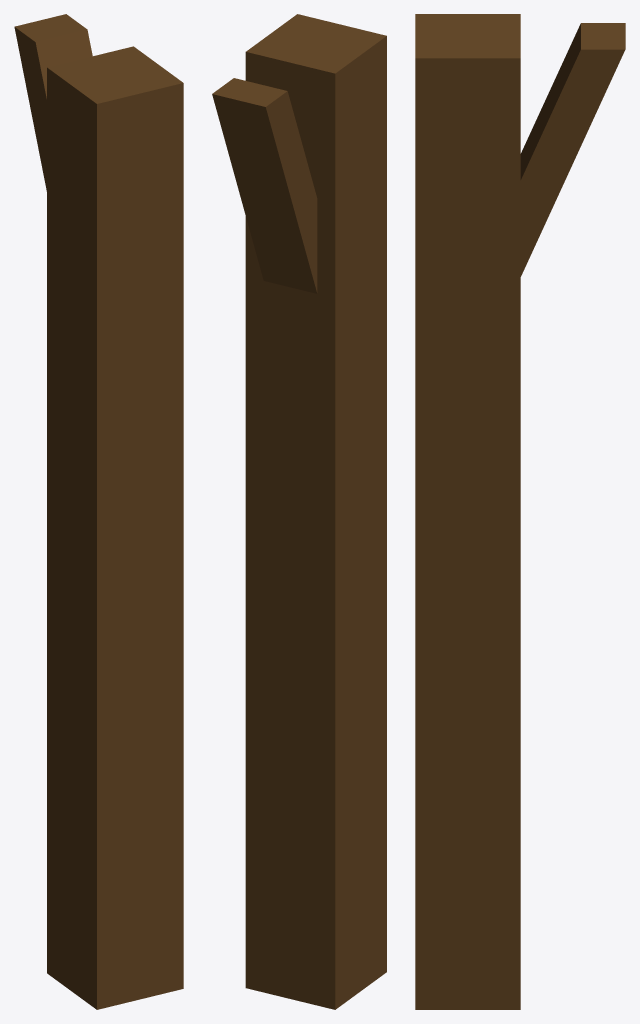
Rendered from Pillar3.obj.
The picture shows the model from 3 angles, left to right: view 1: azimuth 30°, elevation 25°; view 2: azimuth 150°, elevation 25°; view 3: azimuth 270°, elevation 25°; orthographic projection. The views are drawn at different scales.
Parts seen in each view (by area): view 1: Mesh1 Model; view 2: Mesh1 Model; view 3: Mesh1 Model.
Boxes of the visible parts, box(x1,y1,x2,y2) form: Mesh1 Model: box(14, 14, 183, 1009); Mesh1 Model: box(212, 14, 386, 1009); Mesh1 Model: box(415, 14, 625, 1009).
Bounding box in the file's own units: 0.1 × 1 × 0.2.
